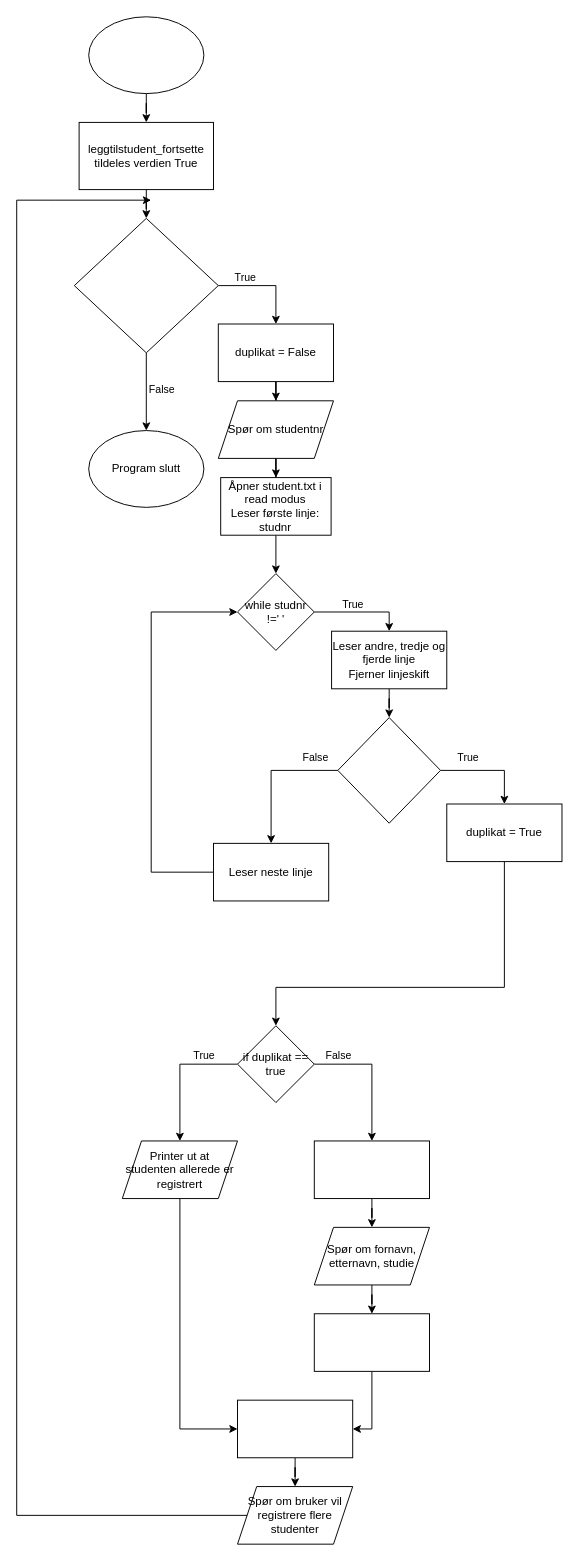
Image size: 579x1561. Some labels were removed from this diagram. The centre of each missing label's shape, as x and y in pixels:
"if s.nr input == studnr" belongs at [389,770].
"Lukker student.txt" belongs at [295,1428].
"Lukker student.txt i readmodus. Åpner student.txt i append modus" belongs at [371,1169].
"Program start leggtilstudent()" belongs at [146,55].
"Skriver inn all input i student.txt" belongs at [371,1342].
"while leggtilstudent_fortsette = True" belongs at [145,285].
